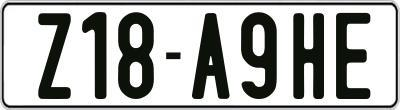1: (79, 10, 109, 102)
8: (117, 11, 157, 98)
9: (240, 11, 276, 99)
A: (189, 12, 226, 102)
E: (335, 13, 372, 103)
H: (290, 13, 321, 105)
Z: (37, 12, 71, 101)
